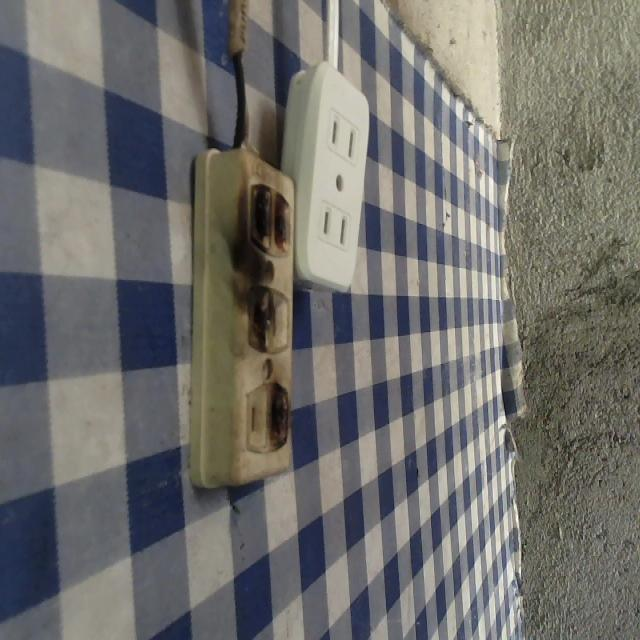-: (233, 171, 303, 268), (233, 277, 278, 359), (263, 382, 293, 449)
